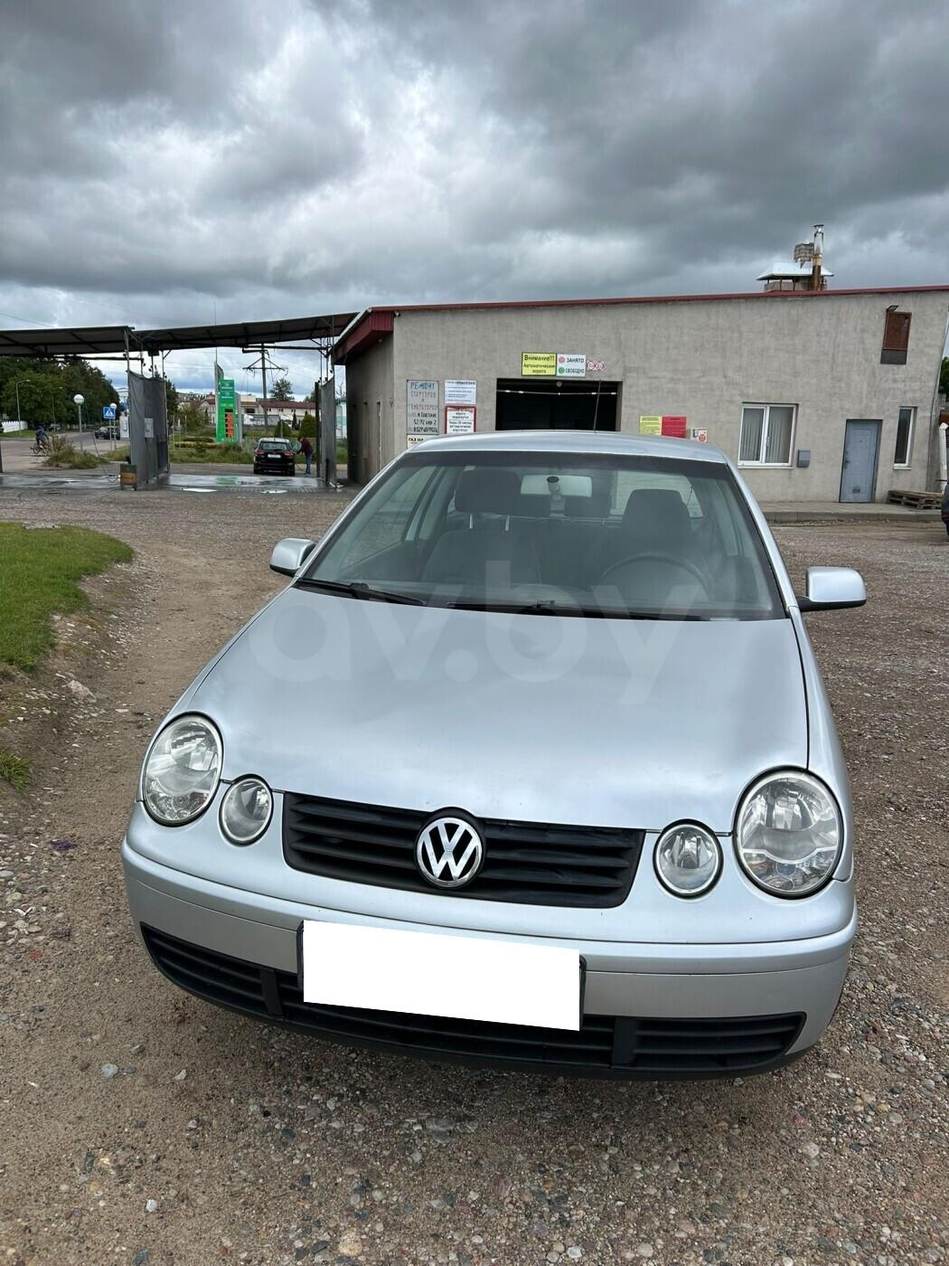Polo_2001-2005: (129, 421, 870, 1114)
